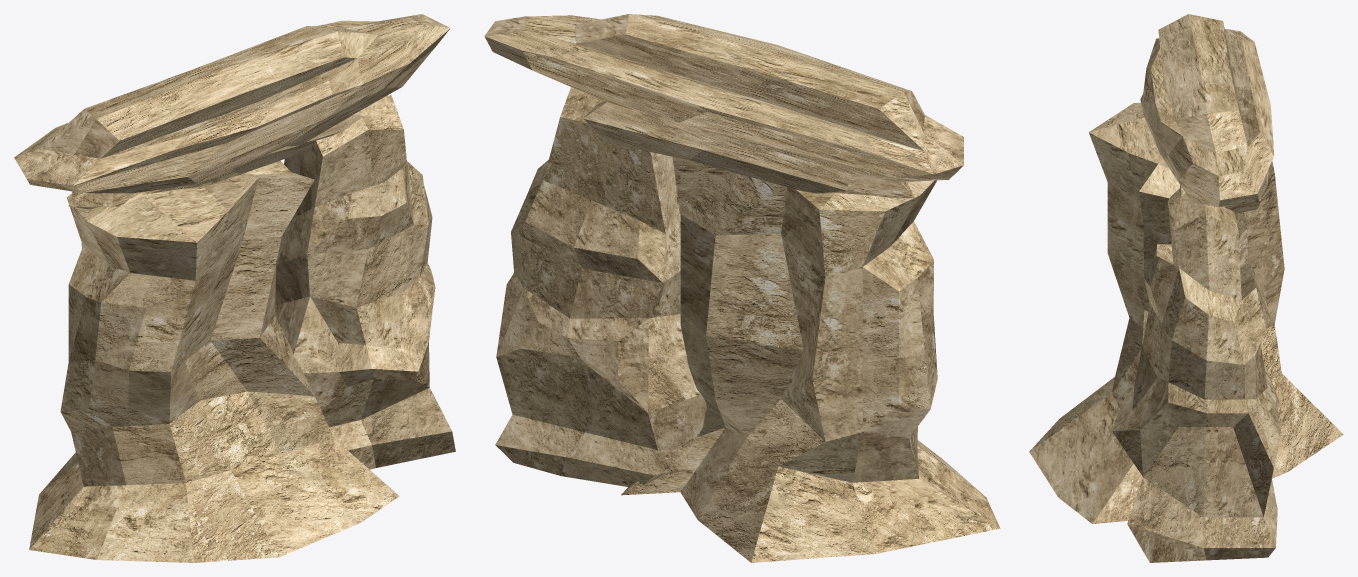
Rendered from rock-set-desert-01.dae.
3 views of the same model, side by side, from view 1: azimuth 30°, elevation 25°; view 2: azimuth 150°, elevation 25°; view 3: azimuth 270°, elevation 25° (orthographic). The views are drawn at different scales.
Visible parts, largest first — view 1: Cube_006; view 2: Cube_006; view 3: Cube_006.
Part boxes in pixels (bbox=[...]): Cube_006: bbox=[14, 14, 455, 562]; Cube_006: bbox=[484, 14, 1000, 562]; Cube_006: bbox=[1029, 14, 1343, 562].
Size of the model in its own units: 3.02 by 1.89 by 2.71.
